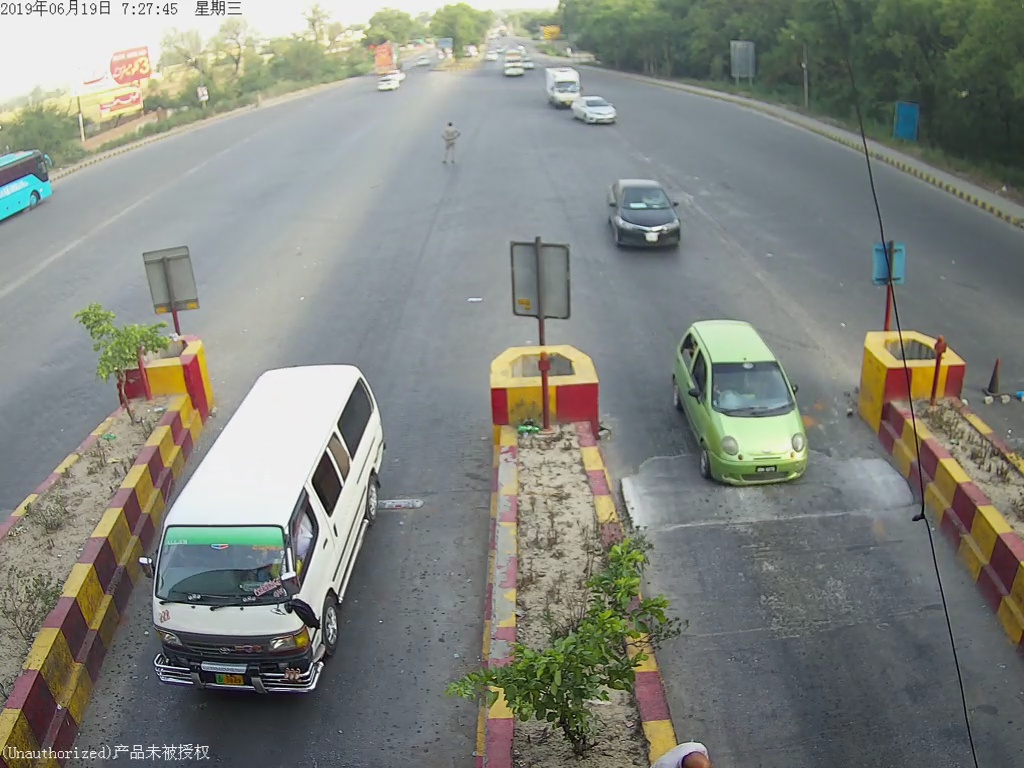Cat-1: (671, 317, 827, 503), (602, 169, 688, 257)
Cat-2: (152, 362, 395, 702)
